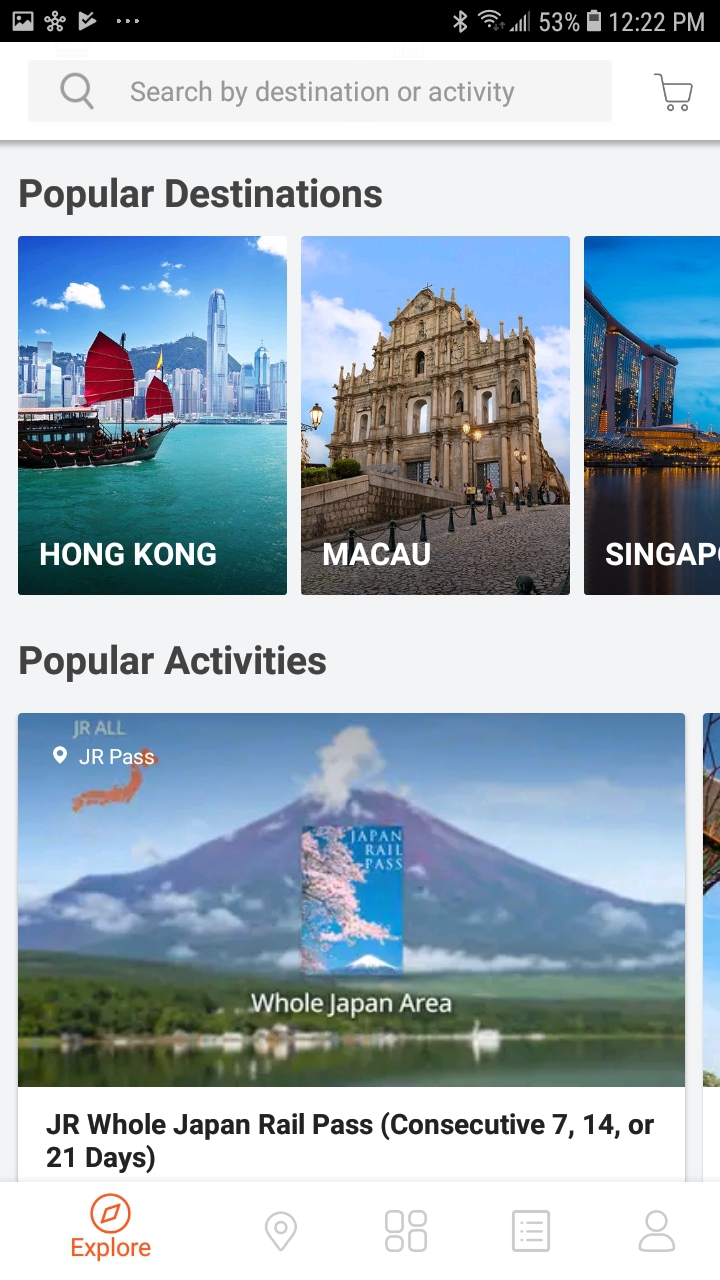EditText: (28, 61, 612, 123)
Icon: (384, 1209, 428, 1252), (91, 1192, 132, 1234), (512, 1210, 551, 1253), (638, 1209, 676, 1252), (654, 74, 693, 113), (265, 1211, 298, 1252), (61, 73, 95, 111), (54, 746, 69, 765)
Image: (19, 713, 685, 1087), (301, 236, 570, 596), (19, 237, 288, 596), (584, 236, 720, 596), (703, 713, 720, 1088)
Text: (46, 1111, 655, 1175), (20, 178, 383, 217), (21, 644, 327, 683), (131, 81, 515, 108), (251, 991, 452, 1019), (41, 542, 217, 567), (606, 543, 720, 567), (324, 543, 431, 566), (72, 1236, 152, 1262), (80, 749, 155, 765)
UpperTaskBar: (1, 1, 720, 43)
